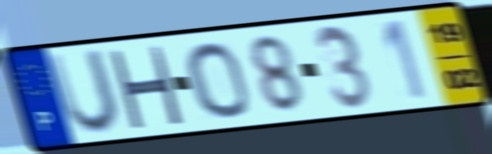1: (378, 18, 429, 105)
3: (315, 21, 373, 113)
8: (246, 33, 307, 115)
H: (105, 45, 185, 129)
O: (182, 40, 253, 120)
U: (44, 46, 124, 138)
